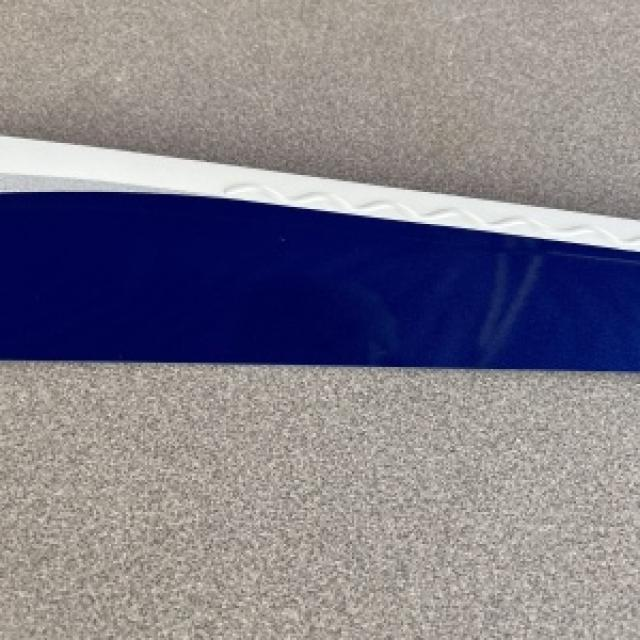healthy: (0, 134, 638, 369), (0, 422, 638, 638)
